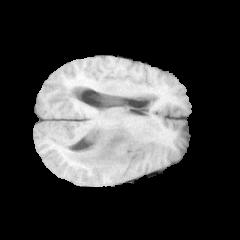glioma: (65, 126, 144, 176)
